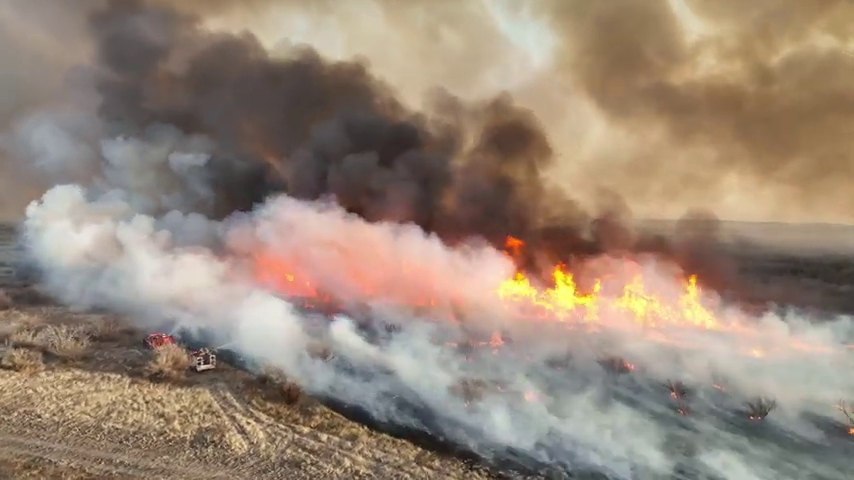forest_fire: (496, 263, 722, 329), (258, 258, 328, 298), (505, 236, 524, 262)
